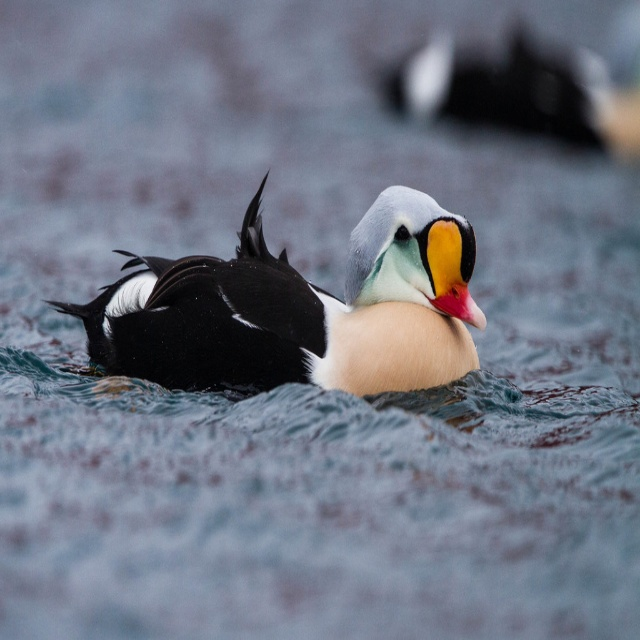Duck: (41, 183, 492, 402)
